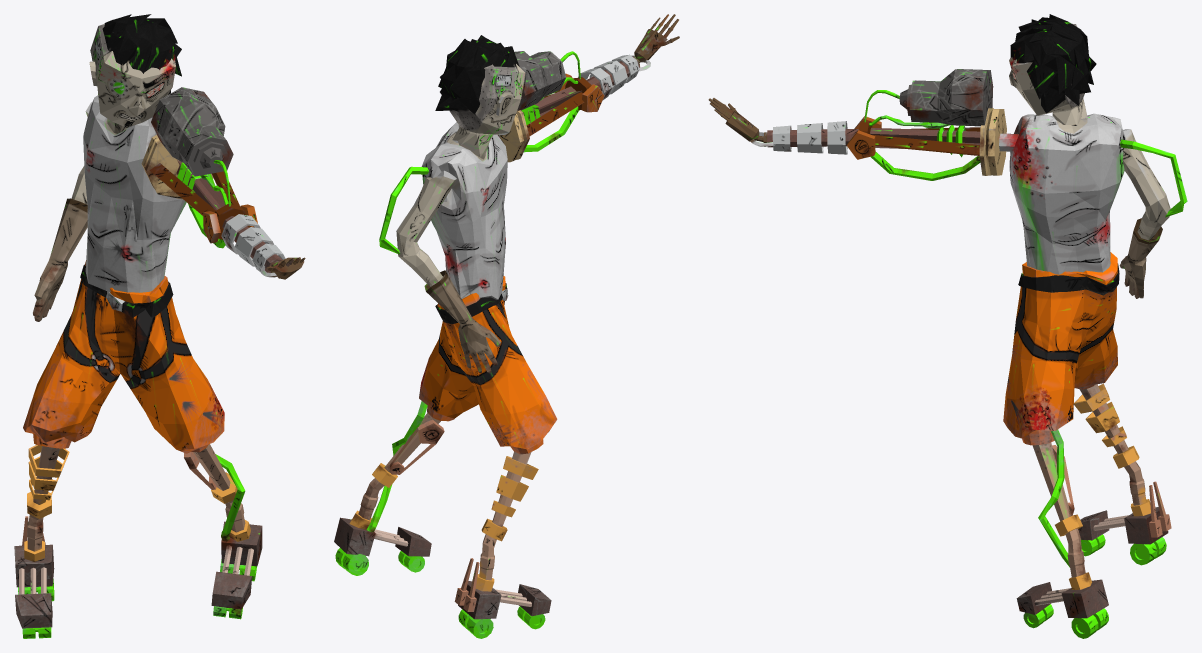
Rendered from CyborgFINALAnimation_000024.obj.
The picture shows the model from 3 angles, left to right: view 1: azimuth 30°, elevation 25°; view 2: azimuth 150°, elevation 25°; view 3: azimuth 270°, elevation 25°; orthographic projection. The views are drawn at different scales.
Visible parts, largest first — view 1: CyborgMesh_Cube.002; view 2: CyborgMesh_Cube.002; view 3: CyborgMesh_Cube.002.
Part boxes in pixels (x1,y1,x2,y2): CyborgMesh_Cube.002: (14,14,305,638); CyborgMesh_Cube.002: (334,14,679,638); CyborgMesh_Cube.002: (708,14,1187,638).
Size of the model in its own units: 3.86 by 9.42 by 7.23.
